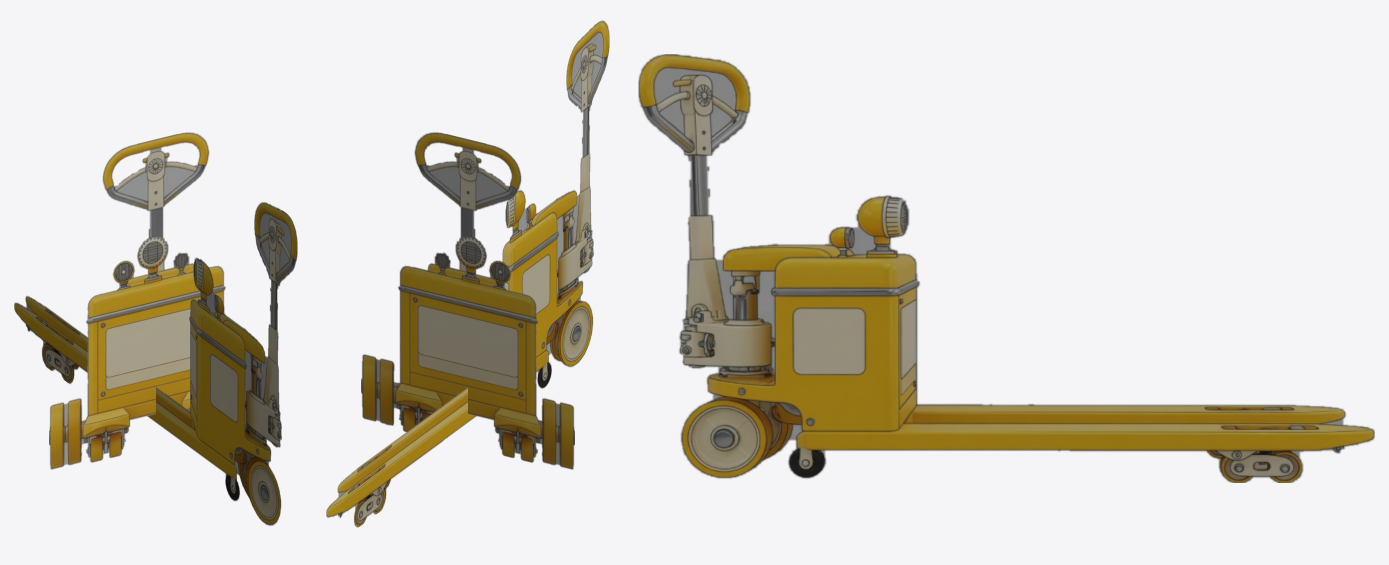
Rendered from pallet_jack.glb.
3 renders of one model, left to right at view 1: azimuth 30°, elevation 25°; view 2: azimuth 150°, elevation 25°; view 3: azimuth 270°, elevation 25°, orthographic. The views are drawn at different scales.
Visible parts, largest first — view 1: pallet_jack; view 2: pallet_jack; view 3: pallet_jack.
Part boxes in pixels (x1=…): pallet_jack: x1=14, y1=132, x2=297, y2=525; pallet_jack: x1=326, y1=20, x2=609, y2=527; pallet_jack: x1=638, y1=54, x2=1374, y2=482.
Size of the model in its own units: 0.6986 by 1.03 by 1.6.
Materials: 1 (1 with a texture image).
